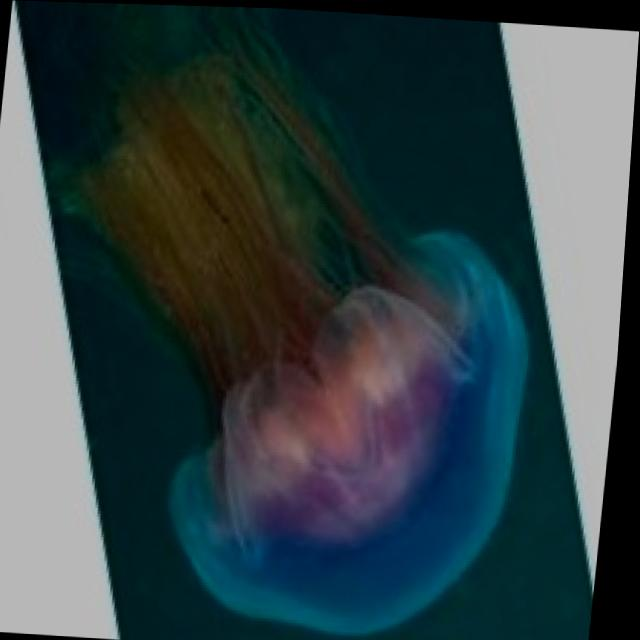Jellyfish: (0, 22, 580, 640)
